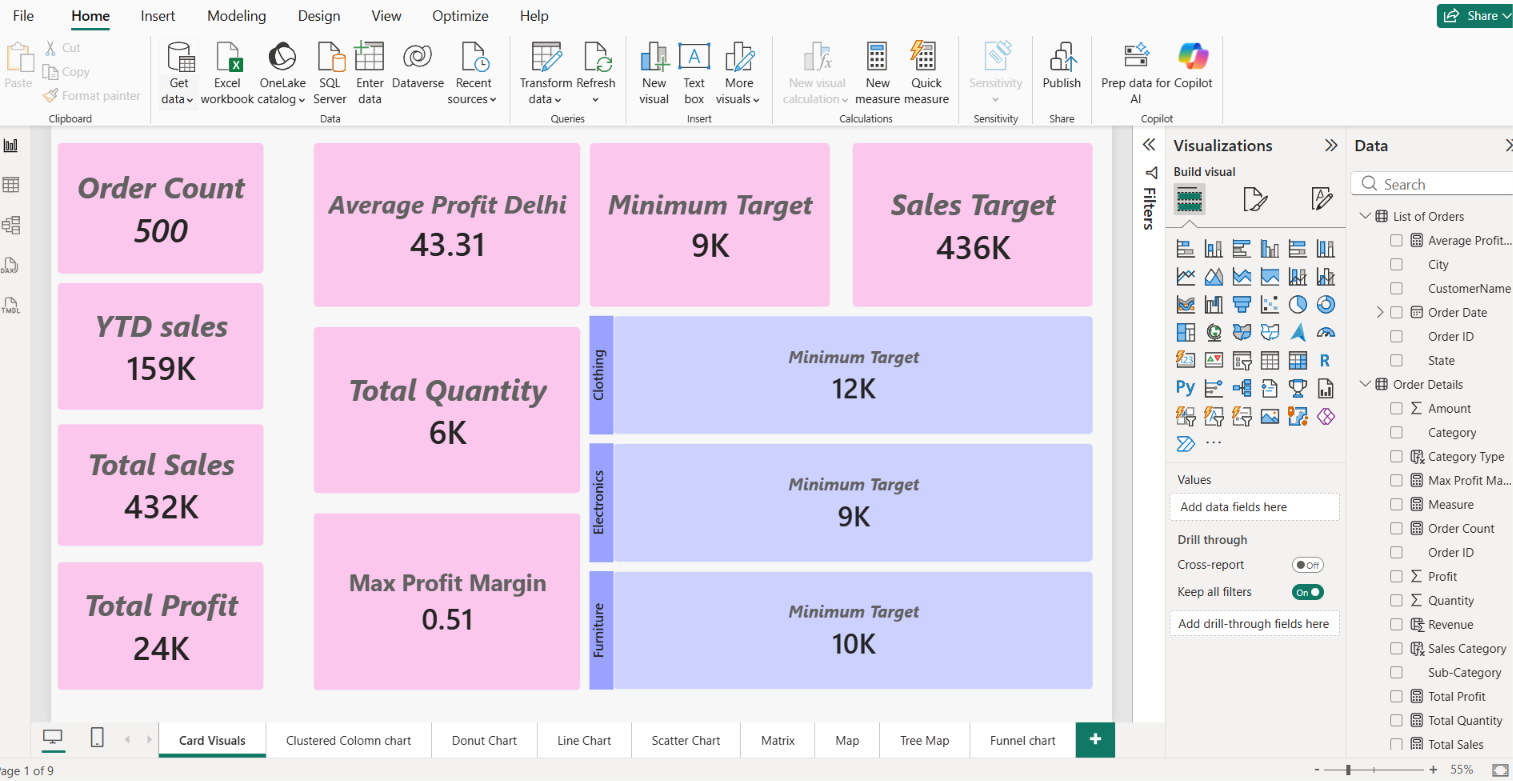

The page's visual inventory and layout, read from the dashboard file:
{"tool":"powerbi","page":{"name":"Card Visuals","canvas":[1920,1080],"ordinal":0},"visuals":[{"type":"cardVisual","fields":{"Data":["Order Details.Order Count"]},"box":[10.9,30.8,374.6,238.9],"z":0},{"type":"cardVisual","fields":{"Data":["List of Orders.Average Profit Delhi"]},"box":[474.1,30.8,485,298.6],"z":1000},{"type":"cardVisual","fields":{"Data":["Order Details.YTD sales"]},"box":[10.9,284.1,374.6,231.6],"z":2000},{"type":"cardVisual","fields":{"Data":["Order Details.Total Sales"]},"box":[10.9,539.3,374.6,222.6],"z":3000},{"type":"cardVisual","fields":{"Data":["Order Details.Total Profit"]},"box":[10.9,789,374.6,233.4],"z":4000},{"type":"cardVisual","fields":{"Data":["Order Details.Total Quantity"]},"box":[474.1,363.7,485,302.2],"z":5000},{"type":"cardVisual","fields":{"Data":["Sales target.Minimum Target"]},"box":[973.6,30.8,436.1,298.6],"z":6000},{"type":"cardVisual","fields":{"Data":["Sales target.Sales Target"]},"box":[1449.5,30.8,436.1,298.6],"z":7000},{"type":"cardVisual","fields":{"Data":["Order Details.Max Profit Margin"]},"box":[474.1,700.3,485,322.1],"z":8000},{"type":"cardVisual","fields":{"Data":["Sales target.Minimum Target"],"Rows":["Sales target.Category"]},"box":[973.6,343.8,912.1,678.6],"z":9000}]}

Visuals, with their boxes on the page's 1920x1080 design canvas (x1, y1, x2, y2). These are canvas units, not pixel positions in the 1513x781 screenshot, which may show the page scaled, cropped or inside an application window:
cardVisual - Order Details.Order Count: pyautogui.locateOnScreen(11, 31, 386, 270)
cardVisual - List of Orders.Average Profit Delhi: pyautogui.locateOnScreen(474, 31, 959, 329)
cardVisual - Order Details.YTD sales: pyautogui.locateOnScreen(11, 284, 386, 516)
cardVisual - Order Details.Total Sales: pyautogui.locateOnScreen(11, 539, 386, 762)
cardVisual - Order Details.Total Profit: pyautogui.locateOnScreen(11, 789, 386, 1022)
cardVisual - Order Details.Total Quantity: pyautogui.locateOnScreen(474, 364, 959, 666)
cardVisual - Sales target.Minimum Target: pyautogui.locateOnScreen(974, 31, 1410, 329)
cardVisual - Sales target.Sales Target: pyautogui.locateOnScreen(1450, 31, 1886, 329)
cardVisual - Order Details.Max Profit Margin: pyautogui.locateOnScreen(474, 700, 959, 1022)
cardVisual - Sales target.Minimum Target x Sales target.Category: pyautogui.locateOnScreen(974, 344, 1886, 1022)
